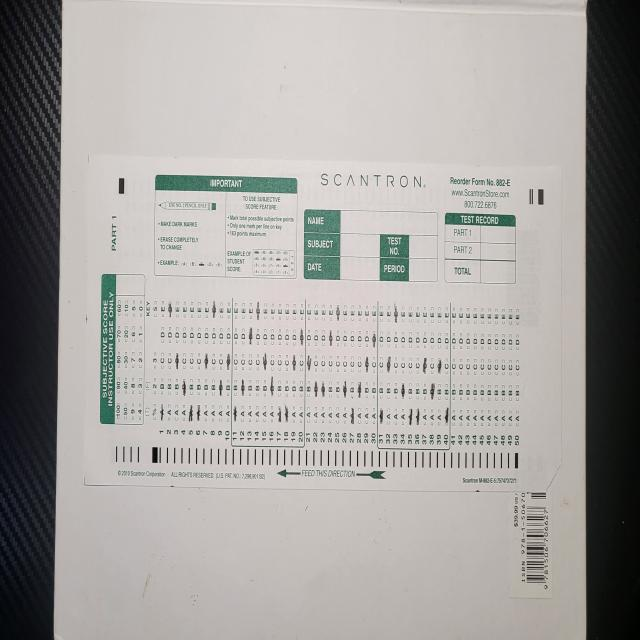scantron: (84, 153, 563, 494)
